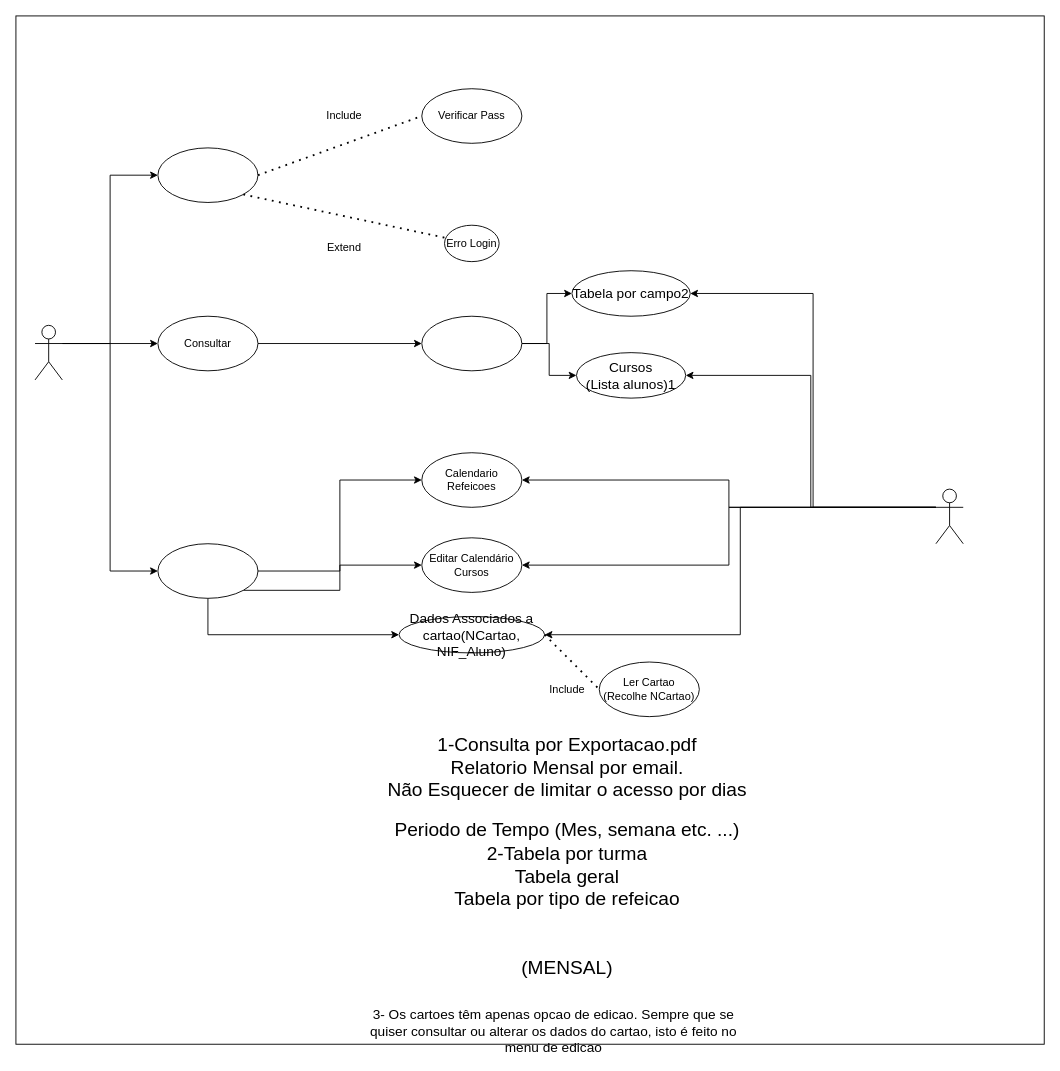
The diagram is 1060 pixels wide and 1071 high, and some of its shapes have lost their labels. Each missing label, with the centre of its shape:
ADMIN: the point at 48,352
Editar: the point at 207,570
Fazer Login: the point at 207,174
Imprimir Relatórios.pdf: the point at 471,343
Portal: the point at 949,516
